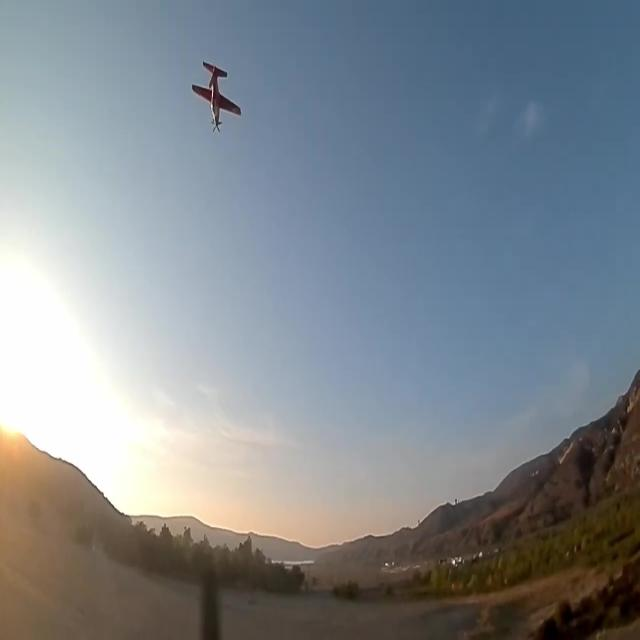iha: (191, 31, 242, 34)
